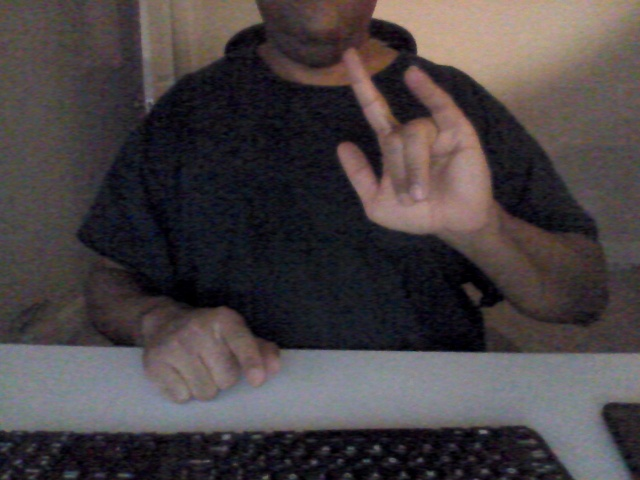i_love_you: (324, 45, 499, 240)
